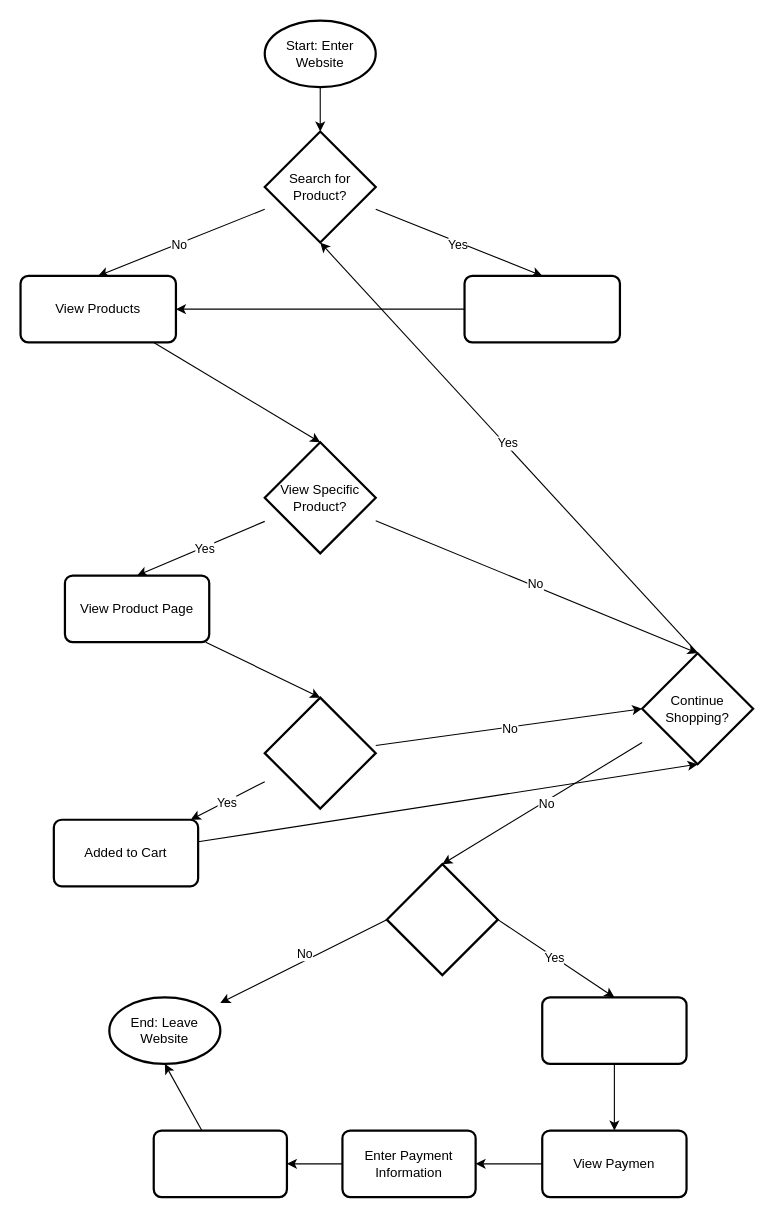
Some shapes in this 773 by 1217 pixel diagram are drawn without their labels. Each missing label, with the box of its shape:
Add to Cart?: (263, 696, 376, 809)
Checkout?: (385, 862, 498, 976)
Enter Search Input: (463, 274, 620, 343)
Order Confirmation + Send Email: (152, 1129, 287, 1198)
View Cart: (541, 996, 687, 1064)
